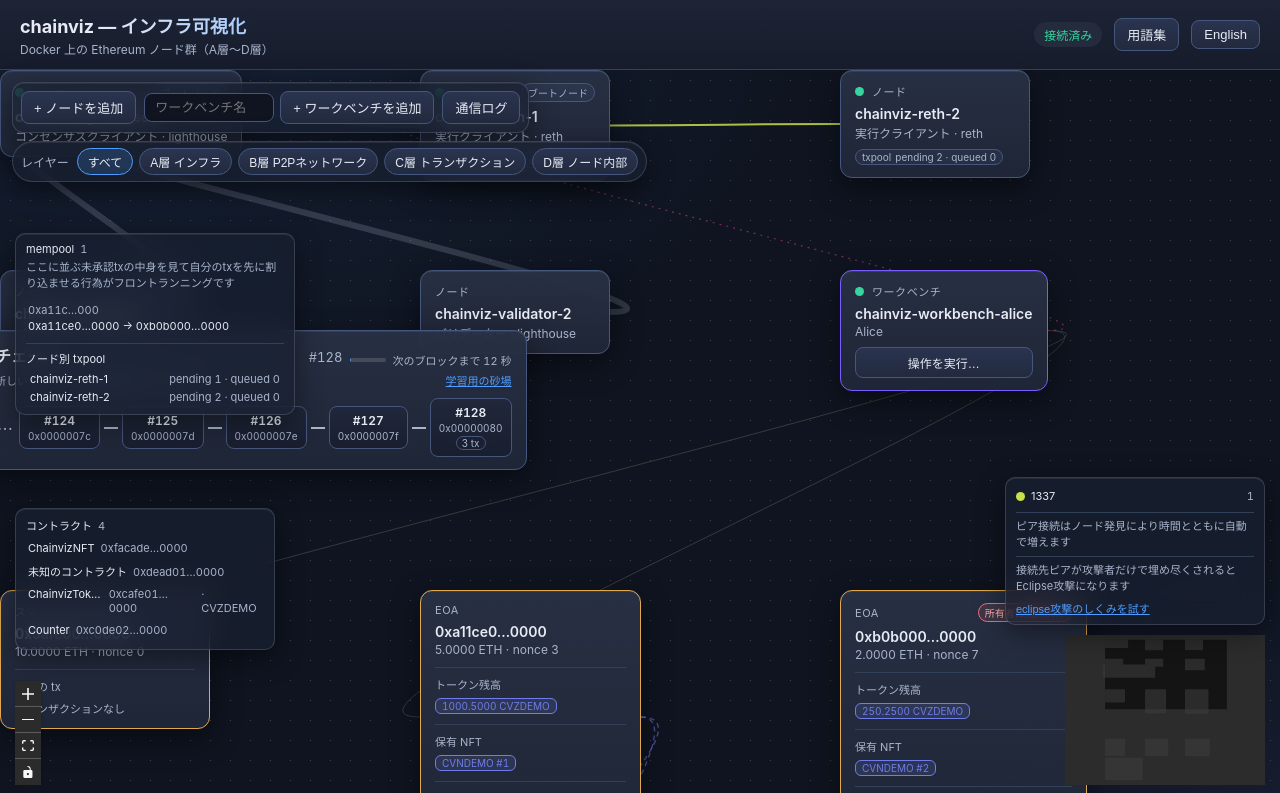
Test: App: glossary panel wiring (Issue #313) › opens the glossary panel with the search box focused via the header button
Expected: the element with test id "infra-card-reth-node-1" is shown, [420,70,610,181]
Click the button with test id "glossary-open-button" at (1147, 34), box [1114,18,1179,51]
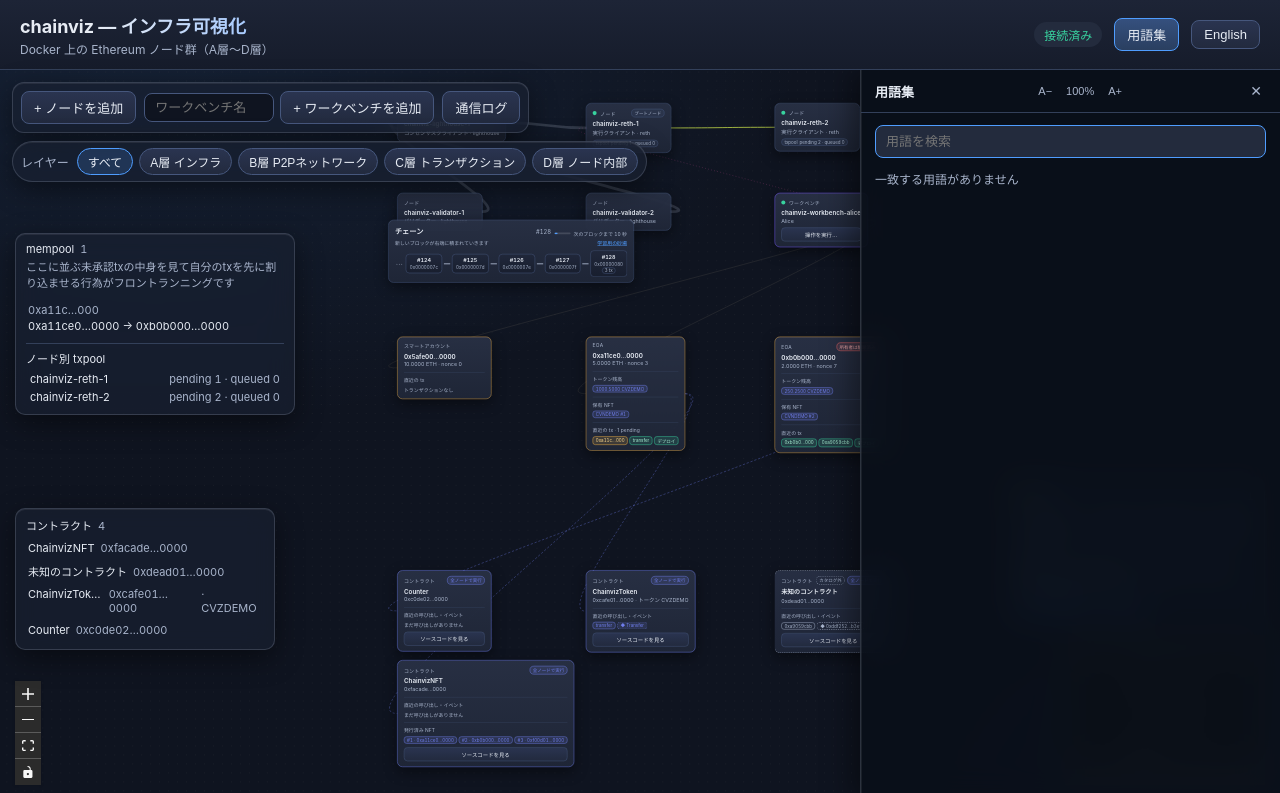
Now the element with test id "glossary-panel" is shown, box [875,125,1266,187]
